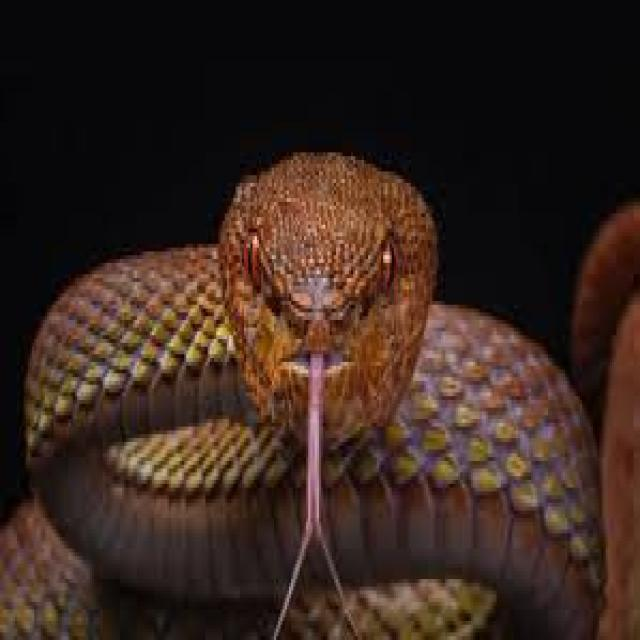Snake: (19, 140, 638, 640)
